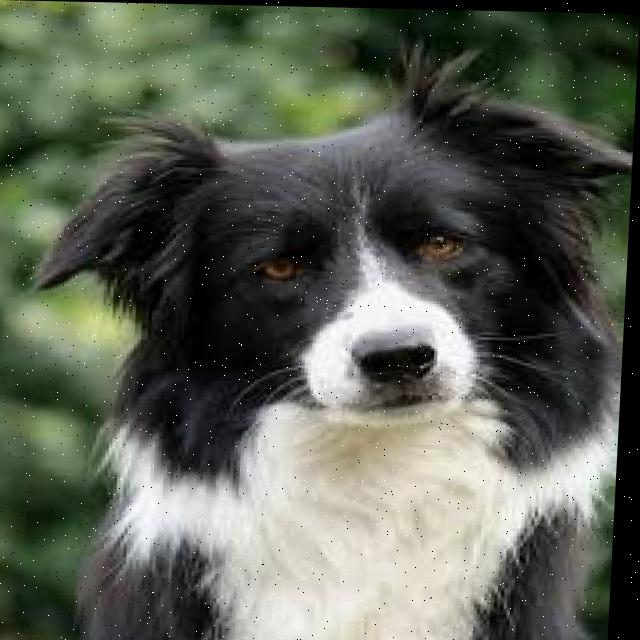BORDER_COLLIE: (0, 24, 639, 640)
